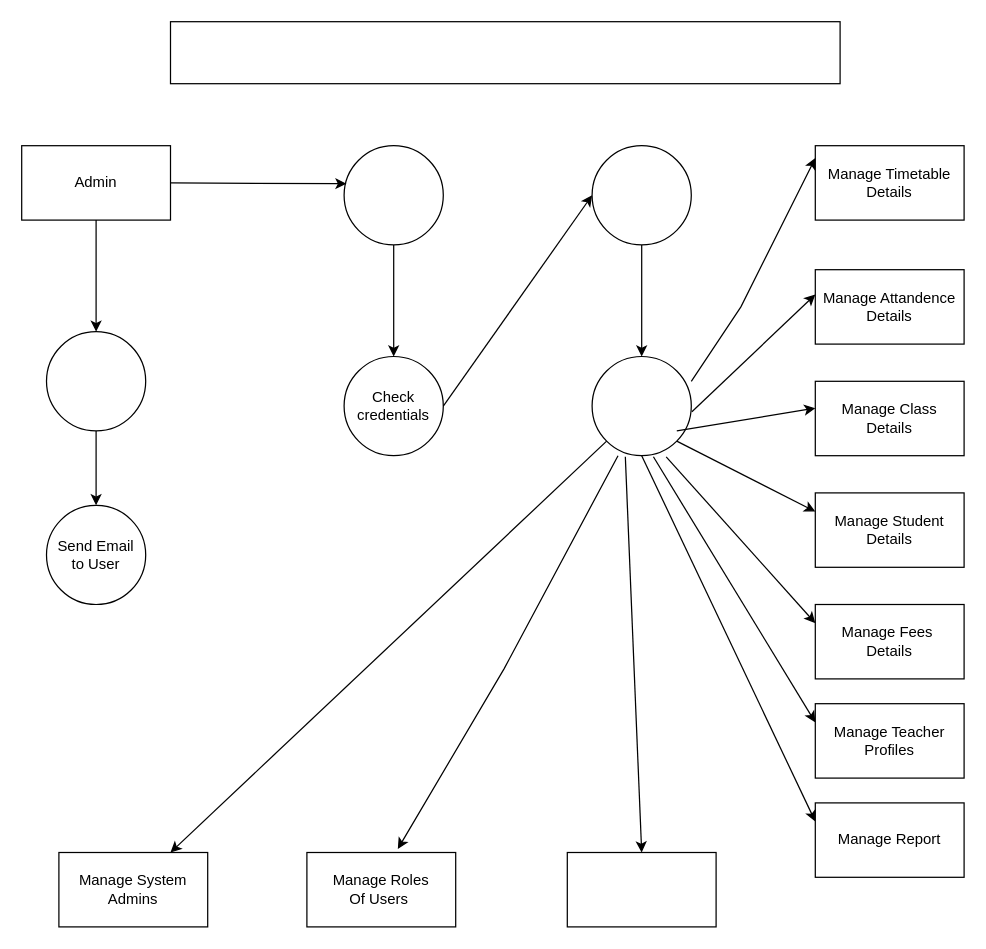
This 986x949 diagram has some shape labels left out. Here are the shapes that lost their labels. From the top down, the box of each, then its label:
(169, 20, 840, 84): Student Information System
(343, 144, 443, 245): Login to System
(591, 144, 691, 245): Chsck Roles Of Access
(45, 330, 146, 431): Forget Password
(591, 355, 691, 456): Manage Modules
